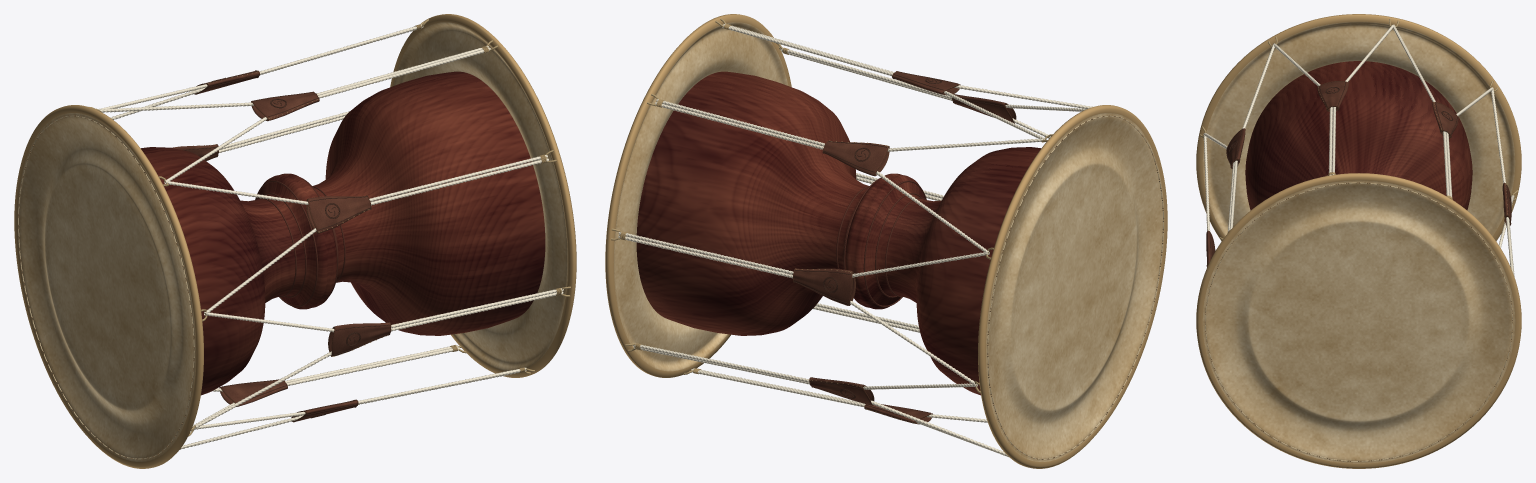
File: janggu.glb
The picture shows the model from 3 angles, left to right: view 1: azimuth 30°, elevation 25°; view 2: azimuth 150°, elevation 25°; view 3: azimuth 270°, elevation 25°; orthographic projection. The views are drawn at different scales.
Parts seen in each view (by area): view 1: Lacquered shell, Head_A_Inner, Head_A_Outer, Head_B_Rim_Back, Three-ply tension cords, Head_A_Rim_Back, Leather slide 04, Leather slide 05, Leather tooling, Turned collar beads, Leather slide 03, Leather slide 07 (+1 smaller); view 2: Lacquered shell, Head_A_Inner, Head_A_Outer, Head_B_Rim_Back, Three-ply tension cords, Head_A_Rim_Back, Leather slide 01, Leather slide 02, Turned collar beads, Leather tooling, Leather slide 08, Running stitch A (+2 smaller); view 3: Head_B_Inner, Head_B_Outer, Head_A_Rim_Back, Lacquered shell, Head_B_Rim_Back, Three-ply tension cords, Running stitch B, Leather slide 03, Leather slide 02, Leather tooling, Leather slide 04, Awl holes B.
Part boxes in pixels (left/top/right/bottom): Lacquered shell: left=141, top=71, right=545, bottom=395; Head_A_Inner: left=45, top=162, right=172, bottom=411; Head_A_Outer: left=17, top=113, right=195, bottom=461; Head_B_Rim_Back: left=390, top=14, right=576, bottom=377; Three-ply tension cords: left=98, top=24, right=563, bottom=449; Head_A_Rim_Back: left=14, top=105, right=203, bottom=468; Leather slide 04: left=307, top=195, right=370, bottom=233; Leather slide 05: left=328, top=322, right=390, bottom=356; Leather tooling: left=183, top=71, right=389, bottom=418; Turned collar beads: left=255, top=177, right=345, bottom=307; Leather slide 03: left=251, top=92, right=318, bottom=120; Leather slide 07: left=220, top=380, right=287, bottom=406; Lacquered shell: left=636, top=71, right=1040, bottom=395; Head_A_Inner: left=1009, top=162, right=1136, bottom=411; Head_A_Outer: left=986, top=113, right=1164, bottom=461; Head_B_Rim_Back: left=605, top=14, right=791, bottom=377; Three-ply tension cords: left=618, top=23, right=1093, bottom=457; Head_A_Rim_Back: left=978, top=105, right=1167, bottom=468; Leather slide 01: left=793, top=268, right=855, bottom=305; Leather slide 02: left=823, top=141, right=888, bottom=175; Turned collar beads: left=836, top=177, right=926, bottom=307; Leather tooling: left=794, top=72, right=1004, bottom=423; Leather slide 08: left=810, top=377, right=873, bottom=405; Running stitch A: left=987, top=115, right=1163, bottom=459; Head_B_Inner: left=1247, top=220, right=1470, bottom=422; Head_B_Outer: left=1202, top=180, right=1515, bottom=463; Head_A_Rim_Back: left=1196, top=14, right=1521, bottom=241; Lacquered shell: left=1245, top=61, right=1472, bottom=210; Head_B_Rim_Back: left=1196, top=173, right=1521, bottom=468; Three-ply tension cords: left=1203, top=24, right=1514, bottom=276; Running stitch B: left=1205, top=182, right=1512, bottom=461; Leather slide 03: left=1317, top=81, right=1348, bottom=110; Leather slide 02: left=1432, top=102, right=1458, bottom=137; Leather tooling: left=1206, top=82, right=1511, bottom=263; Leather slide 04: left=1226, top=128, right=1245, bottom=168; Awl holes B: left=1204, top=182, right=1512, bottom=461.
Bounding box in the file's own units: 0.53 × 0.45 × 0.45.
Materials: 17 (7 with a texture image).
